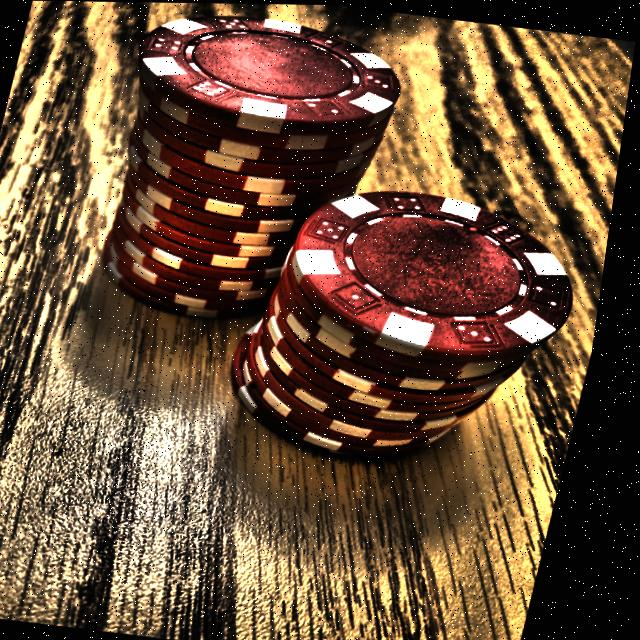Chip: (188, 156, 622, 484), (57, 1, 429, 355)
